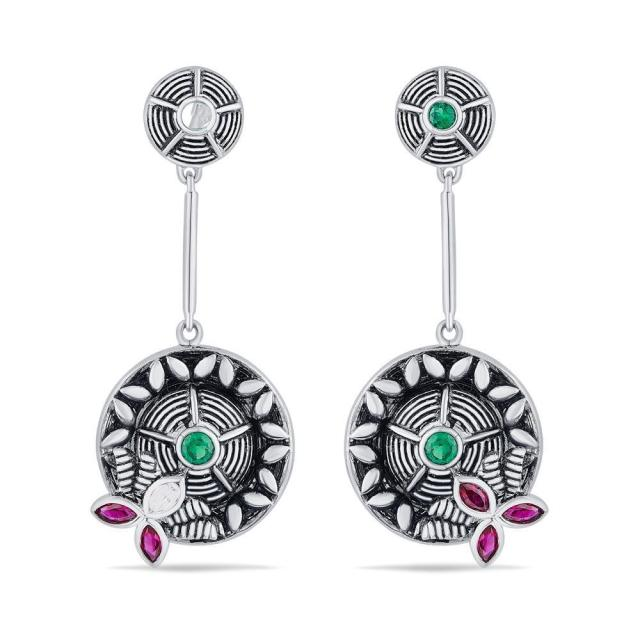missing gem: (181, 101, 211, 131)
